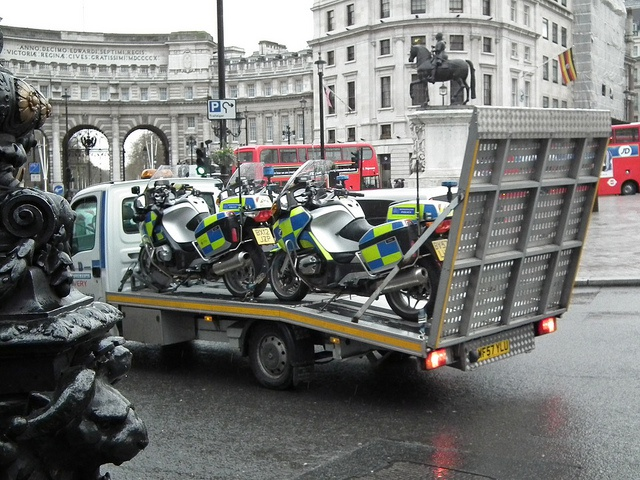non-vehicle: (269, 156, 452, 322), (131, 179, 274, 297)
